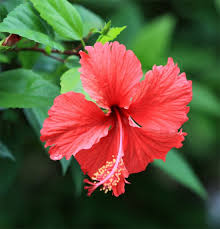hybiscus: (43, 43, 199, 203)
